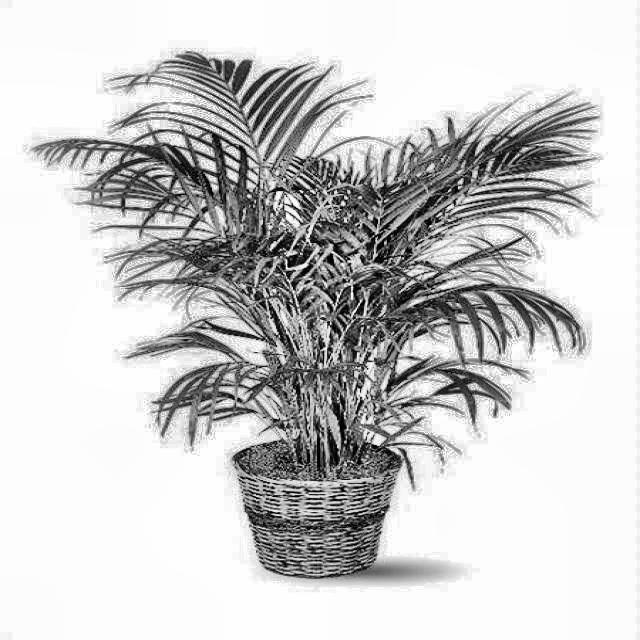plants: (39, 38, 590, 595)
